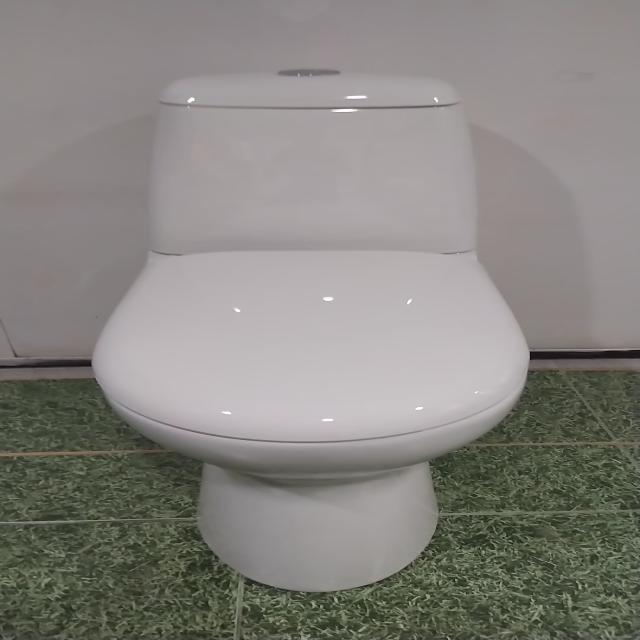toilet: (83, 62, 542, 595)
